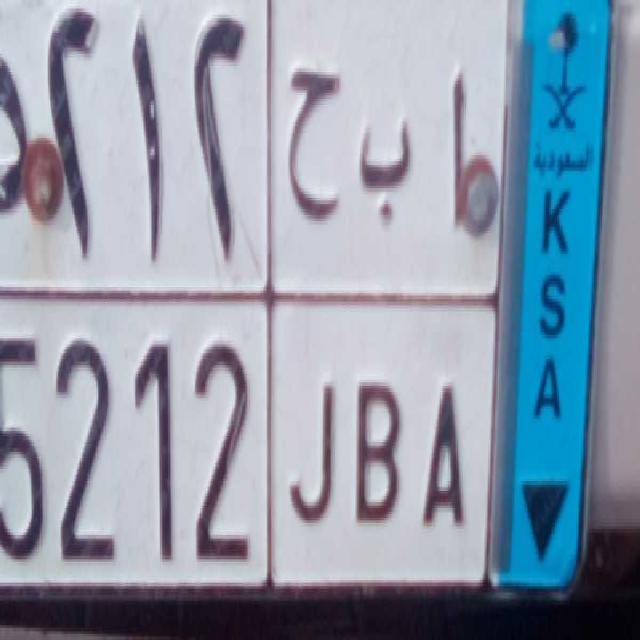license_plate: (0, 287, 491, 598)
